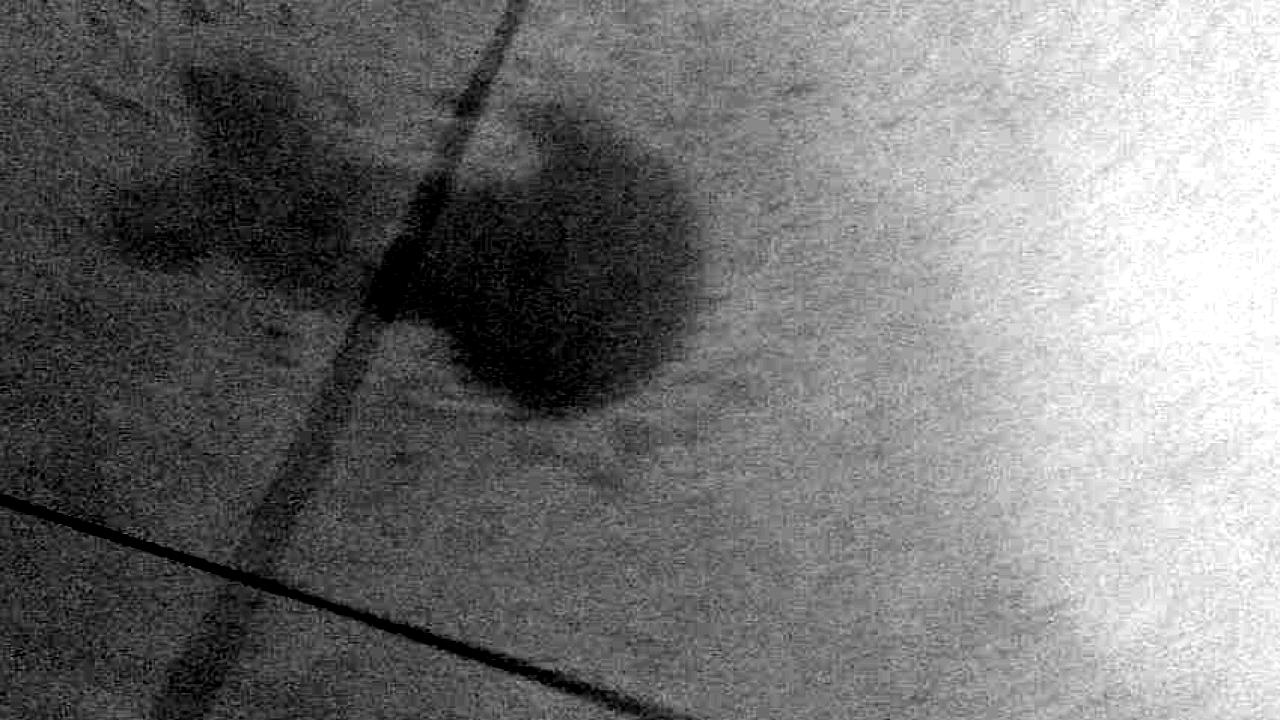drinks Stains: (100, 26, 715, 432)
